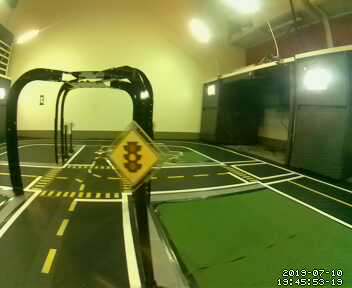Traffic light sign: (105, 126, 159, 184)
